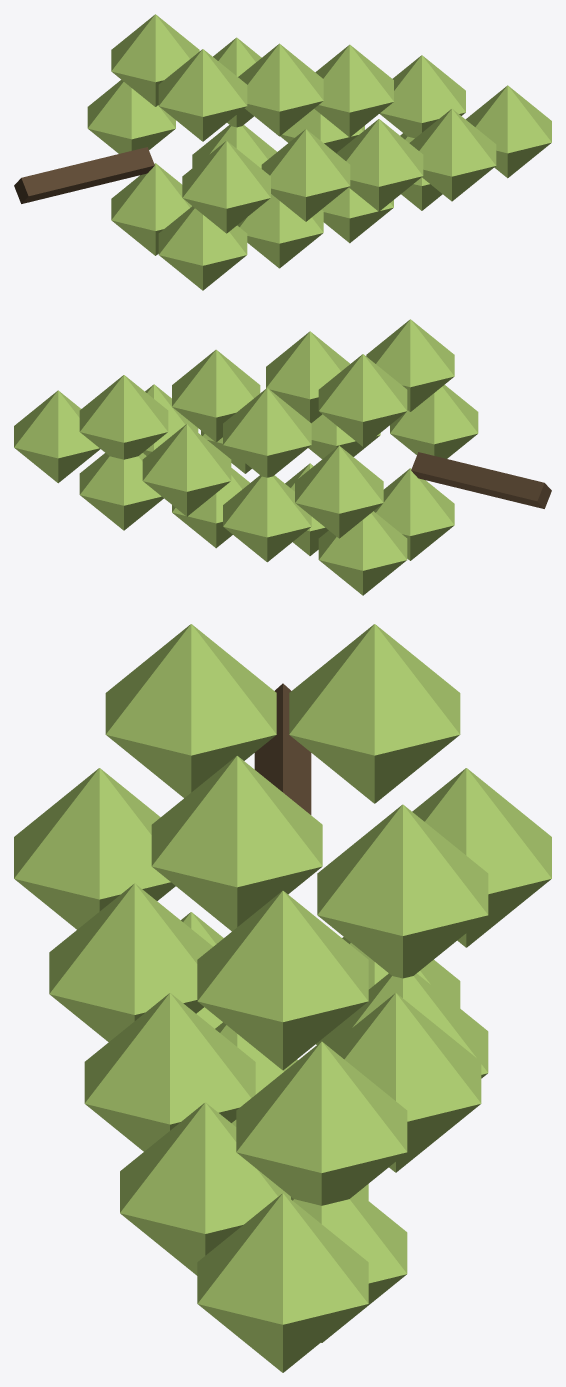
The model's file is FD_Grapes_01.glb.
The picture shows the model from 3 angles, top to bottom: view 1: azimuth 30°, elevation 25°; view 2: azimuth 150°, elevation 25°; view 3: azimuth 270°, elevation 25°; orthographic projection. The views are drawn at different scales.
Visible parts, largest first — view 1: FD_Grapes_01; view 2: FD_Grapes_01; view 3: FD_Grapes_01.
Boxes of the visible parts, <box> form: FD_Grapes_01: <box>14,14,551,290</box>; FD_Grapes_01: <box>14,319,551,595</box>; FD_Grapes_01: <box>14,624,551,1372</box>.
Size of the model in its own units: 0.168 by 0.0765 by 0.0762.
1 material, 1 textured.
